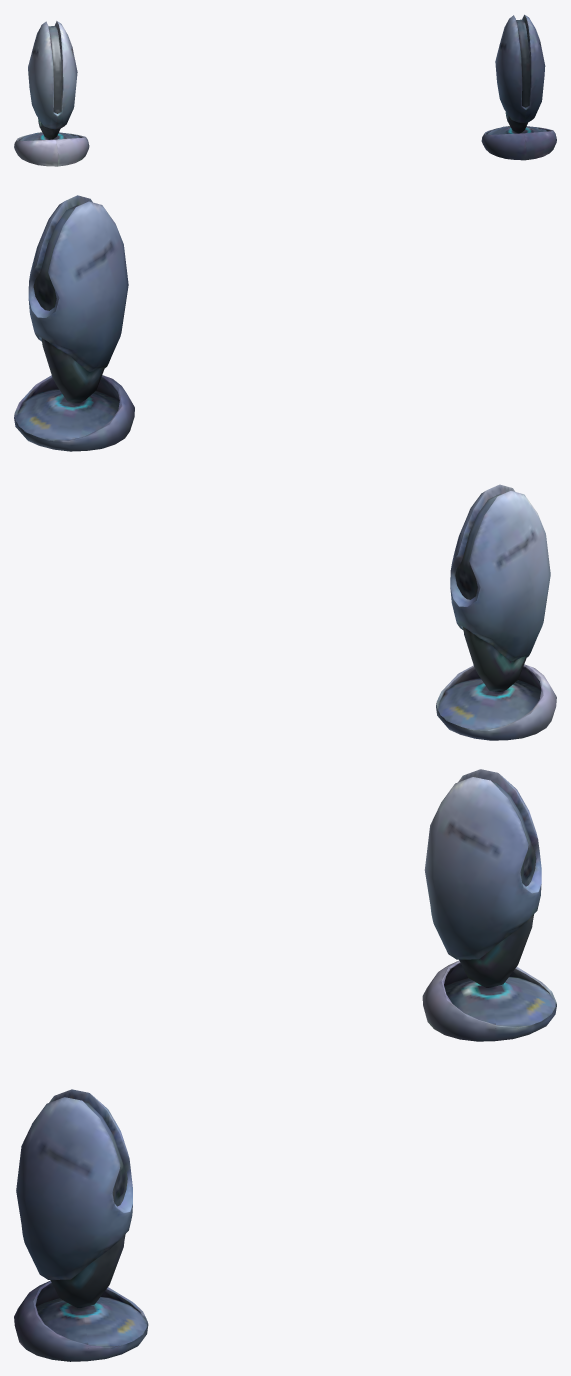
File: pref_sm_4v4beachtech_bk_centerblock_R01d_lv0.fbx
3 views of the same model, one above another, from view 1: azimuth 30°, elevation 25°; view 2: azimuth 150°, elevation 25°; view 3: azimuth 270°, elevation 25° (orthographic). The views are drawn at different scales.
Parts seen in each view (by area): view 1: sm_4v4beachtech_bk_centerblock_R01d_lv0; view 2: sm_4v4beachtech_bk_centerblock_R01d_lv0; view 3: sm_4v4beachtech_bk_centerblock_R01d_lv0.
Boxes of the visible parts, bbox=[...] form: sm_4v4beachtech_bk_centerblock_R01d_lv0: bbox=[14, 14, 556, 166]; sm_4v4beachtech_bk_centerblock_R01d_lv0: bbox=[14, 195, 556, 740]; sm_4v4beachtech_bk_centerblock_R01d_lv0: bbox=[14, 769, 556, 1361].
Size of the model in its own units: 11.67 by 3.48 by 7.09.
